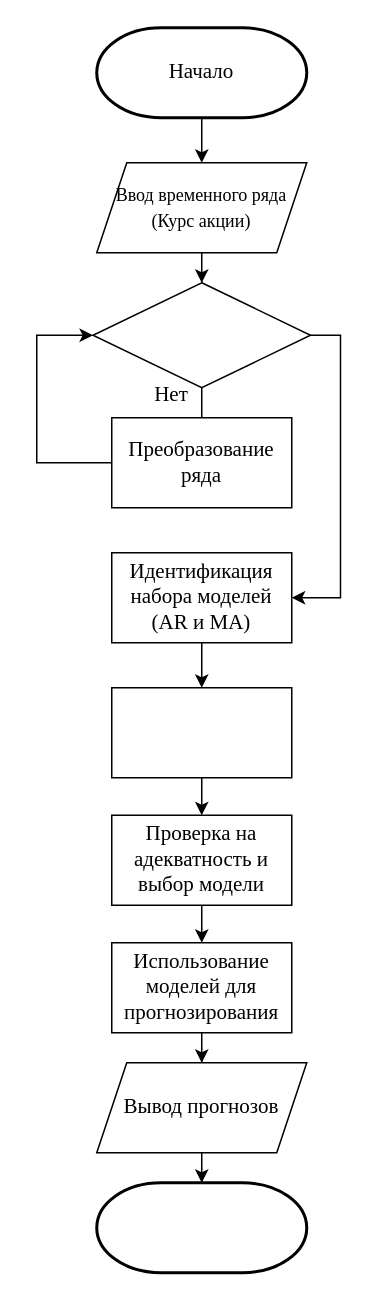
Some shapes in this 380 by 1299 pixel diagram are drawn without their labels. Each missing label, with the box of its shape:
Конец: (94, 1180, 308, 1274)
Оценка параметров модели (График ACF и PACF): (110, 686, 292, 778)
Ряд стационарен? (ADF-тест): (92, 281, 310, 388)
